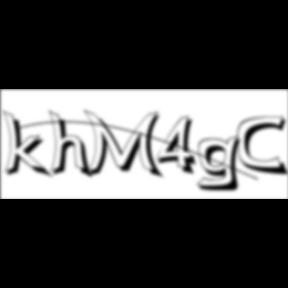4: (156, 115, 202, 179)
M: (83, 108, 167, 181)
g: (197, 134, 249, 194)
h: (50, 108, 96, 182)
k: (2, 108, 56, 181)
